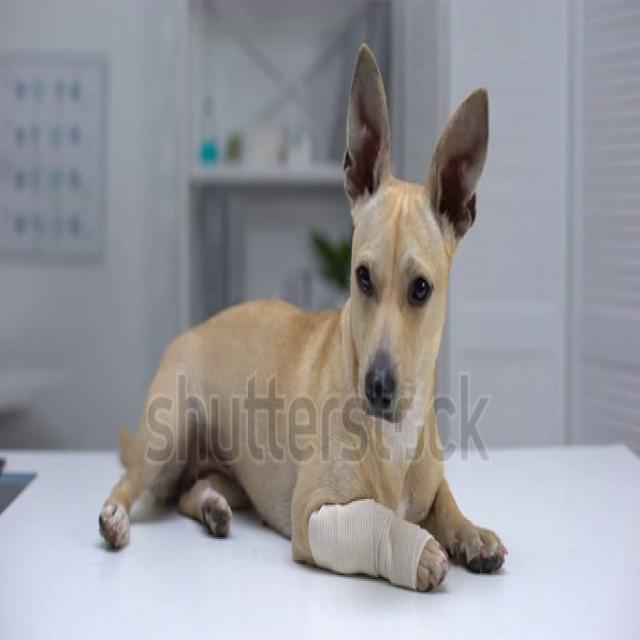injured-animals: (95, 38, 510, 596)
